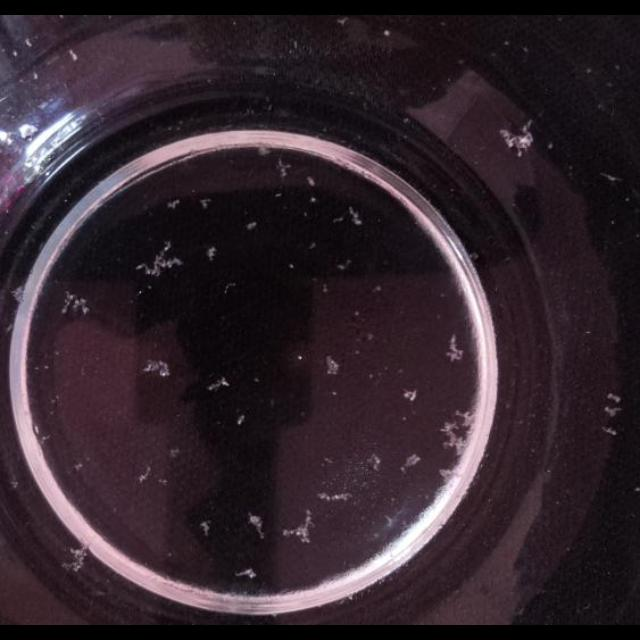Fibre: (436, 406, 476, 458), (135, 240, 183, 278), (500, 120, 536, 156), (282, 508, 314, 542), (62, 544, 90, 574), (60, 290, 92, 316), (444, 334, 464, 364), (142, 359, 172, 378), (247, 512, 265, 538), (400, 454, 420, 474), (207, 375, 230, 391), (276, 158, 292, 180), (348, 206, 364, 227), (137, 466, 151, 484), (199, 521, 211, 537)
microbeads: (324, 356, 338, 376), (366, 454, 382, 470), (604, 404, 622, 416), (402, 390, 418, 402), (602, 426, 618, 436), (206, 246, 217, 260), (169, 446, 181, 458), (168, 198, 180, 210), (224, 282, 236, 294), (336, 260, 350, 270), (607, 393, 621, 403), (72, 462, 84, 472), (199, 198, 211, 208), (306, 176, 316, 187), (372, 284, 382, 294), (246, 220, 256, 230), (469, 251, 479, 261), (237, 414, 245, 426), (32, 424, 40, 436), (546, 140, 554, 150), (309, 196, 317, 204), (383, 28, 391, 36), (606, 80, 614, 88), (614, 64, 622, 72), (322, 283, 328, 293), (288, 262, 294, 270), (274, 192, 282, 198), (33, 72, 39, 80), (504, 40, 511, 46), (586, 68, 592, 74), (297, 354, 303, 360)
